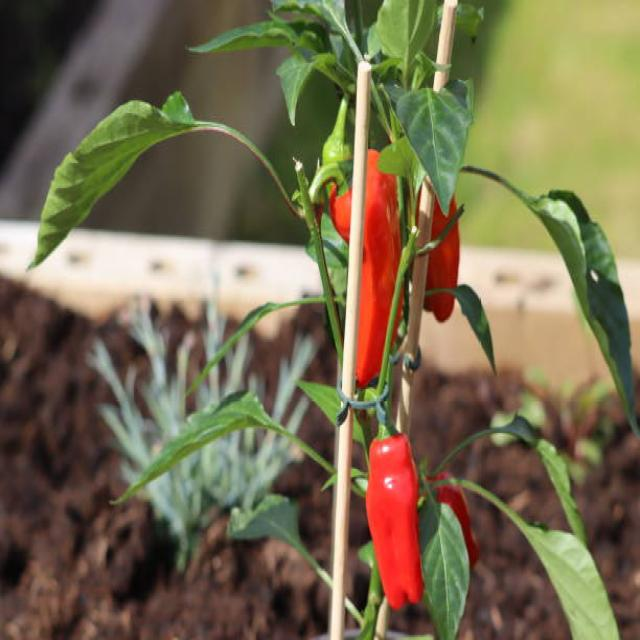Ripe: (355, 135, 404, 387), (366, 436, 426, 615)
